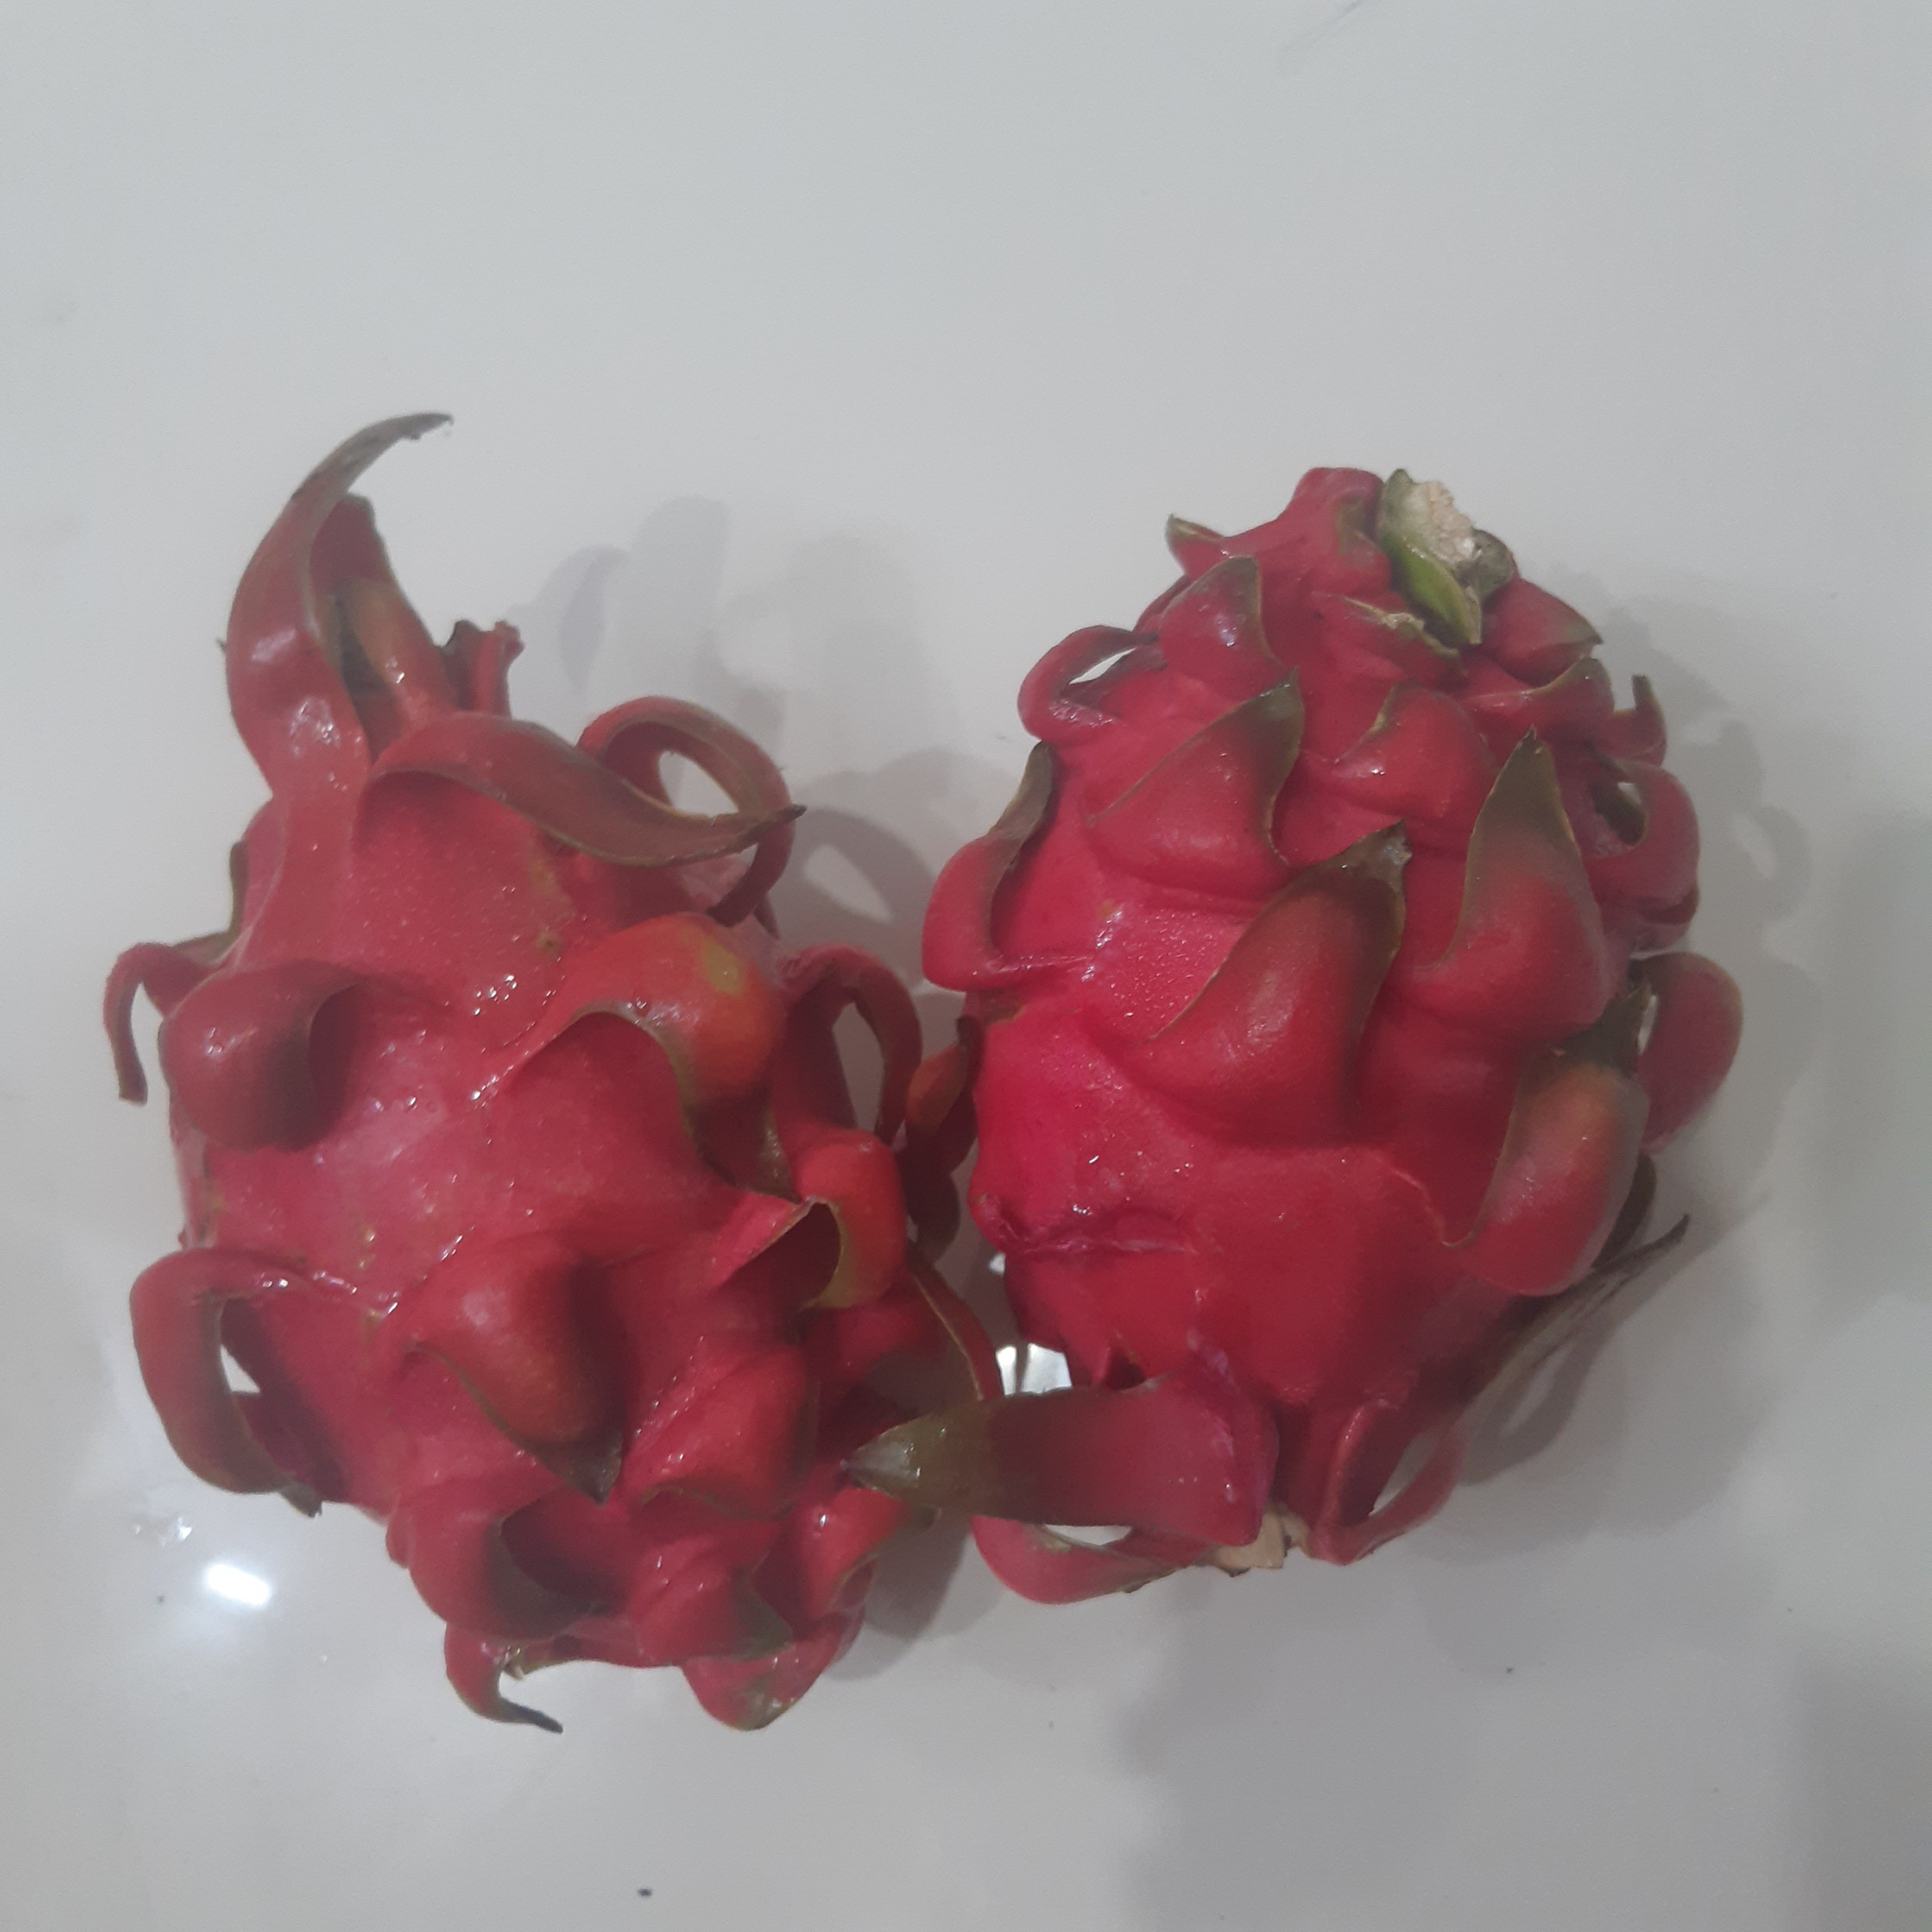Thanh long: (916, 490, 1713, 1543), (154, 632, 941, 1670)
